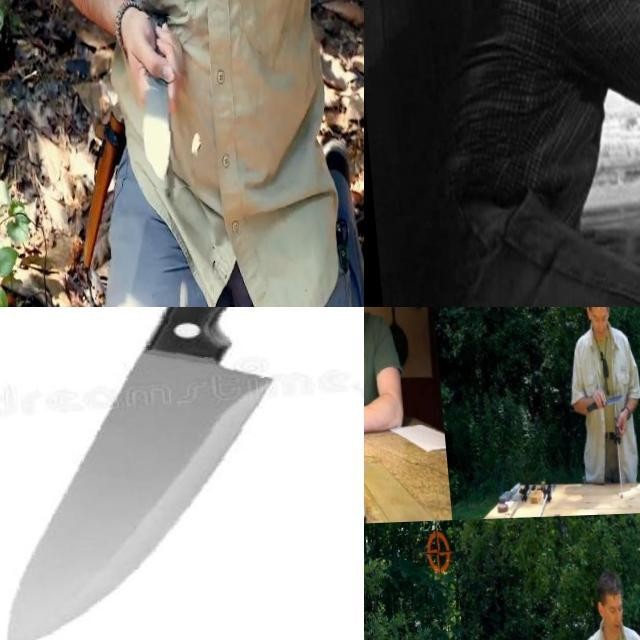-: (0, 307, 364, 640), (119, 18, 187, 192), (364, 327, 376, 407), (580, 396, 622, 418)
